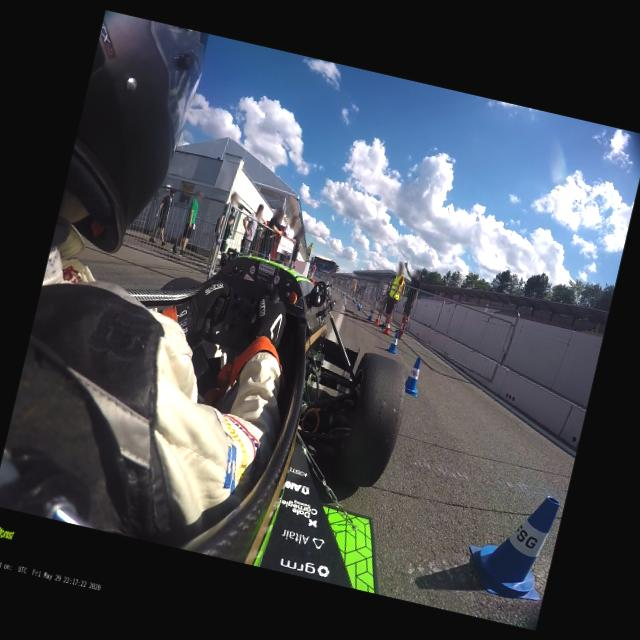blue_cone: (472, 482, 566, 604), (403, 356, 425, 394), (386, 330, 402, 354), (366, 309, 373, 321), (357, 302, 362, 311), (353, 298, 356, 304)
large_orange_cone: (382, 318, 392, 334), (373, 312, 381, 326)
